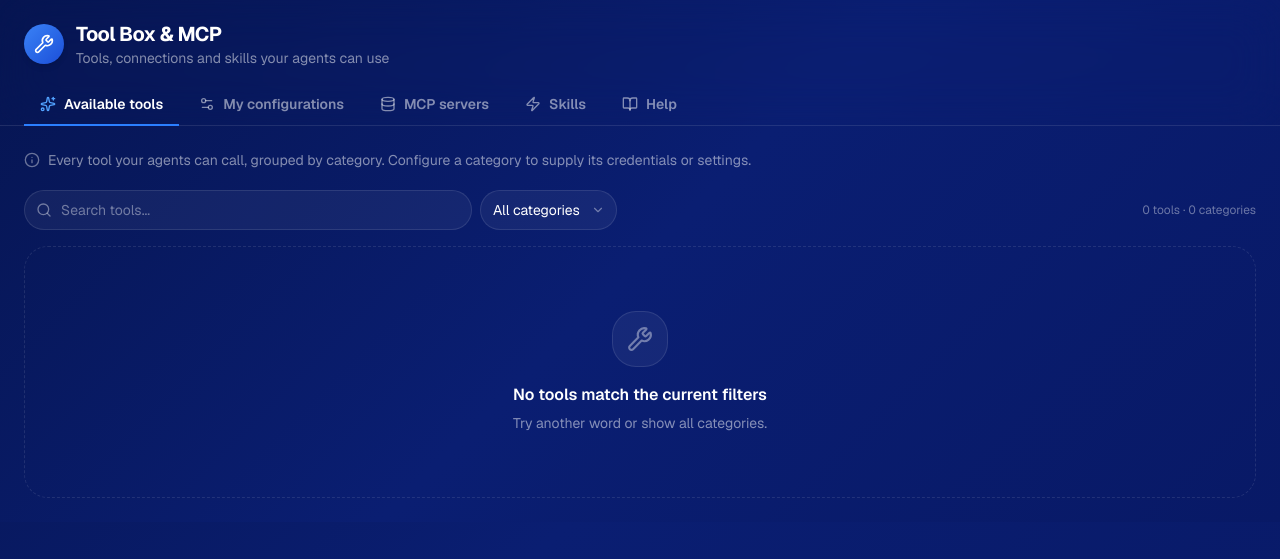
Test: ToolsManager smoke › switches to the MCP Servers tab when clicked
Expected: the search field with placeholder "Search tools..." is shown, [24, 190, 472, 230]
Click the tab "MCP servers": (434, 105) [364, 84, 505, 126]
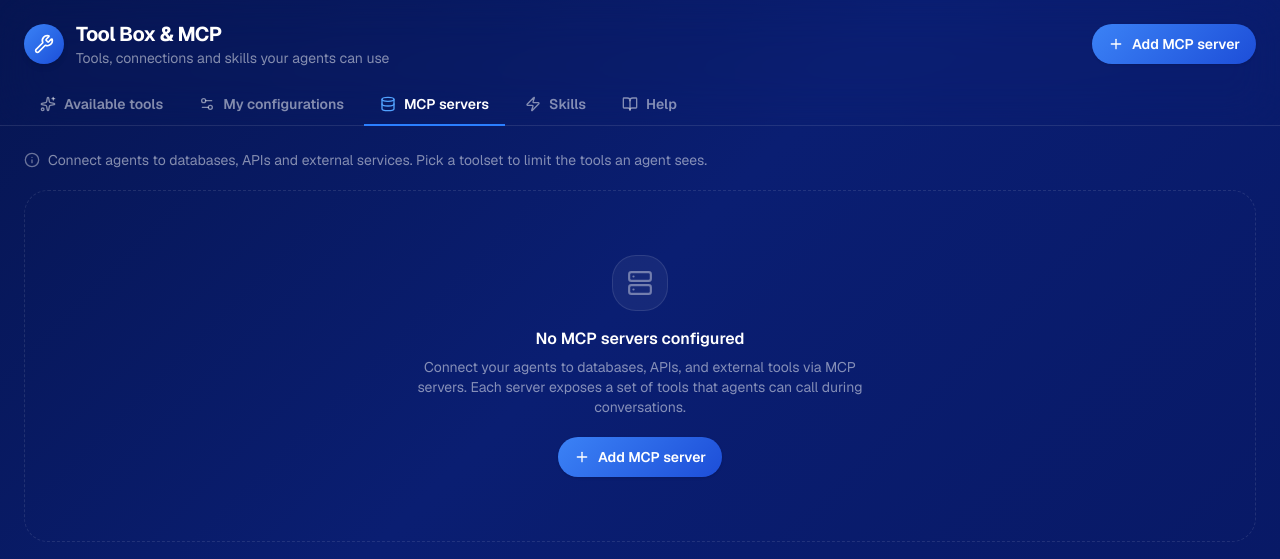
Now the button "Add MCP server" in the row of "Tool Box & MCP" is shown, box [1092, 24, 1256, 64]
